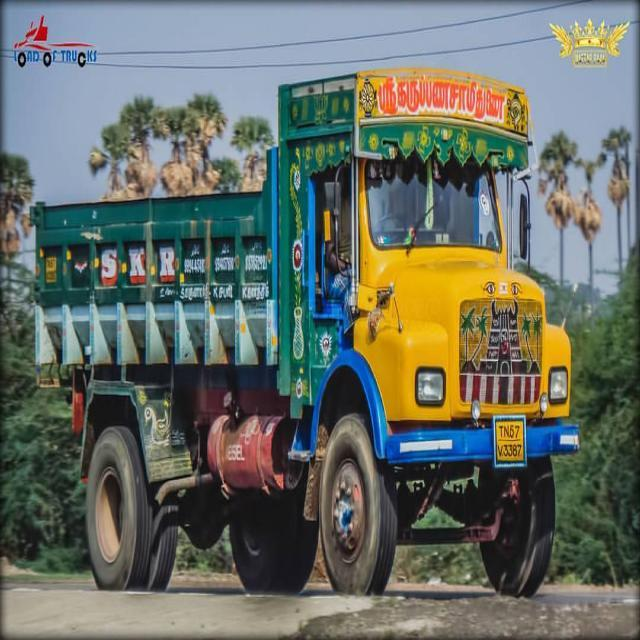Truck: (29, 64, 583, 601)
